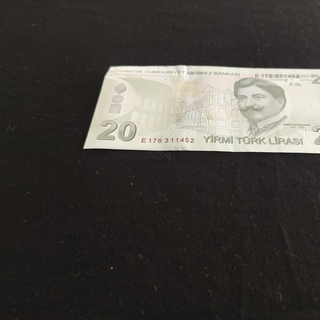20TLBack: (83, 65, 320, 154)
